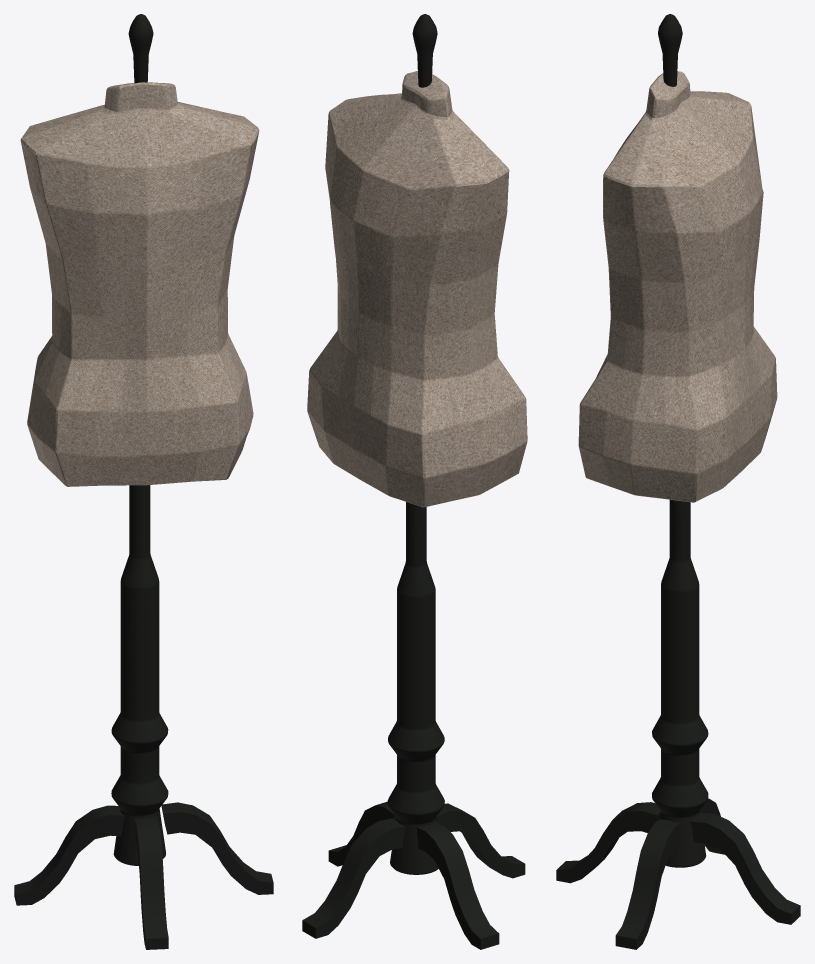
File: mannequin1.fbx
3 views of the same model, side by side, from view 1: azimuth 30°, elevation 25°; view 2: azimuth 150°, elevation 25°; view 3: azimuth 270°, elevation 25° (orthographic).
Visible parts, largest first — view 1: manican; view 2: manican; view 3: manican.
Part boxes in pixels (x1,y1,x2,y2): manican: [14, 14, 273, 949]; manican: [302, 14, 527, 949]; manican: [556, 14, 800, 949].
Size of the model in its own units: 1.04 by 4.16 by 1.04.
Materials: 2 (2 with a texture image).
